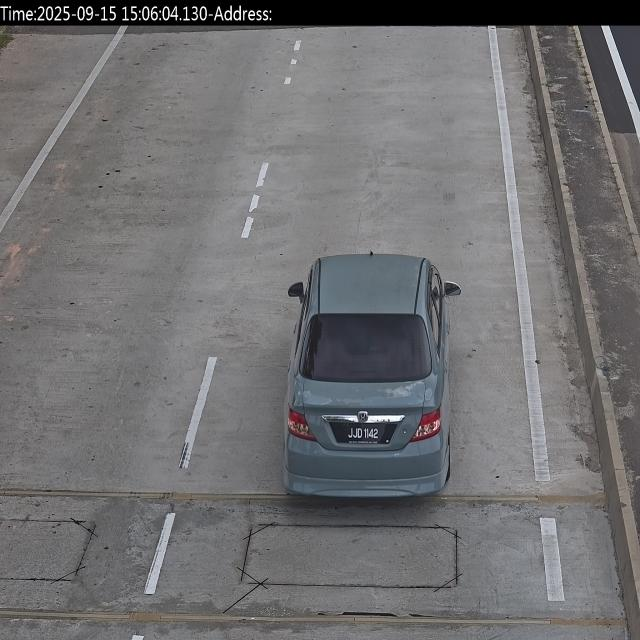back: (334, 421, 391, 448)
